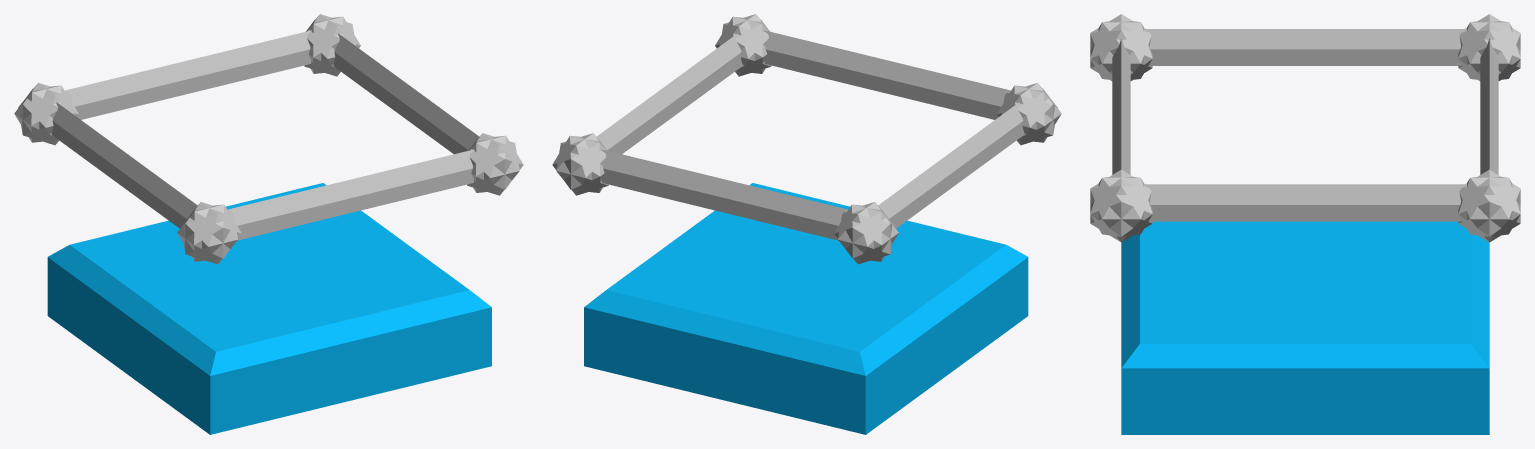
Rendered from Block.obj.
3 renders of one model, left to right at view 1: azimuth 30°, elevation 25°; view 2: azimuth 150°, elevation 25°; view 3: azimuth 270°, elevation 25°, orthographic. The views are drawn at different scales.
Parts seen in each view (by area): view 1: Block, BlockerUp, BlockerDown, BlockerLeft, BlockerRight; view 2: Block, BlockerDown, BlockerUp, BlockerRight, BlockerLeft; view 3: Block, BlockerLeft, BlockerRight, BlockerDown, BlockerUp.
Boxes of the visible parts, x1,y1,x2,y2 form: Block: (47,183,491,434); BlockerUp: (177,135,523,261); BlockerDown: (14,16,360,142); BlockerLeft: (304,14,519,195); BlockerRight: (18,83,237,264); Block: (584,183,1028,434); BlockerDown: (552,135,898,261); BlockerUp: (715,16,1061,142); BlockerRight: (838,83,1057,264); BlockerLeft: (556,14,771,195); Block: (1121,221,1489,434); BlockerLeft: (1090,176,1520,236); BlockerRight: (1090,21,1520,79); BlockerDown: (1458,14,1520,242); BlockerUp: (1090,14,1152,242).
Bounding box in the file's own units: 1.17 × 0.7701 × 1.17.
